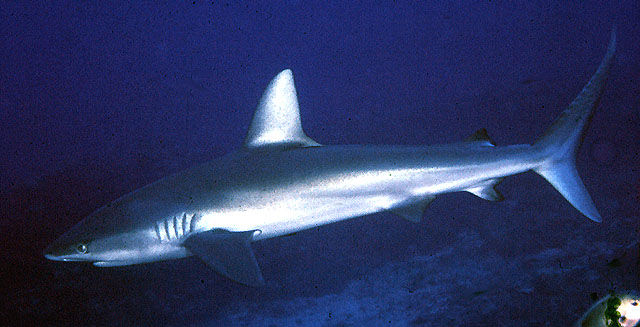fish: (44, 26, 620, 287)
